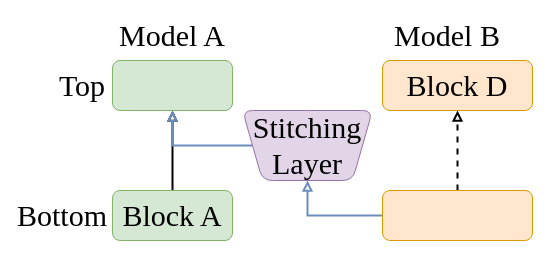
This 550x258 diagram has some shape labels left out. Each missing label, with the centre of its shape:
"Block B" belongs at [172,85].
"Block C" belongs at [457,215].
